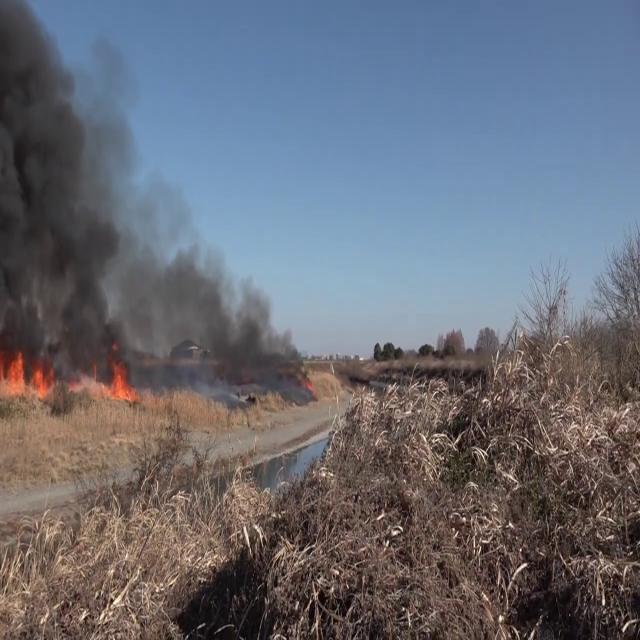Fire: (68, 350, 138, 408), (0, 338, 54, 402)
Smoke: (0, 0, 124, 378), (125, 202, 313, 382)
